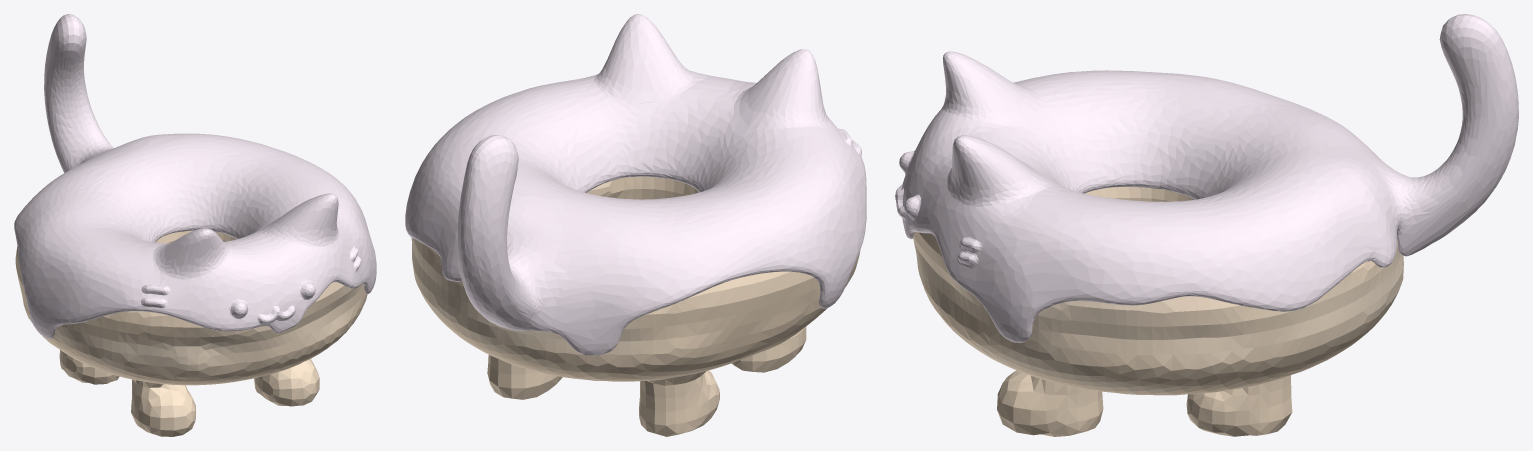
File: BetaDonutDuchess.glb
3 views of the same model, side by side, from view 1: azimuth 30°, elevation 25°; view 2: azimuth 150°, elevation 25°; view 3: azimuth 270°, elevation 25° (orthographic). The views are drawn at different scales.
Parts seen in each view (by area): view 1: icing, donut; view 2: icing, donut; view 3: icing, donut.
Boxes of the visible parts, <box> form: icing: <box>14,14,376,338</box>; donut: <box>15,230,367,436</box>; icing: <box>405,14,866,355</box>; donut: <box>411,176,860,436</box>; icing: <box>895,14,1518,342</box>; donut: <box>913,187,1403,436</box>.
Bounding box in the file's own units: 2.91 × 2.45 × 3.72.
2 materials, 1 textured.
